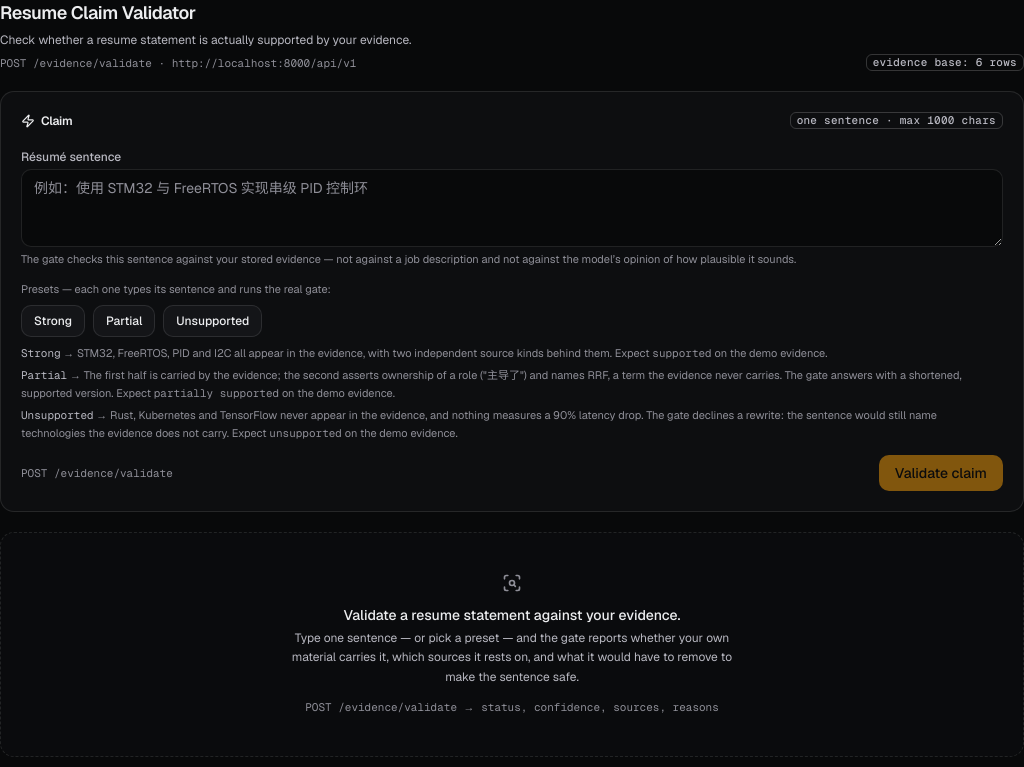
Test: the claim validator page › says why there is no rewrite instead of showing an empty panel
Type "使用 STM32 与 FreeRTOS 实现串级 PID 控制环" into the text box labelled "Résumé sentence".
click(512, 208); type("使用 STM32 与 FreeRTOS 实现串级 PID 控制环")  # box [21, 169, 1003, 247]
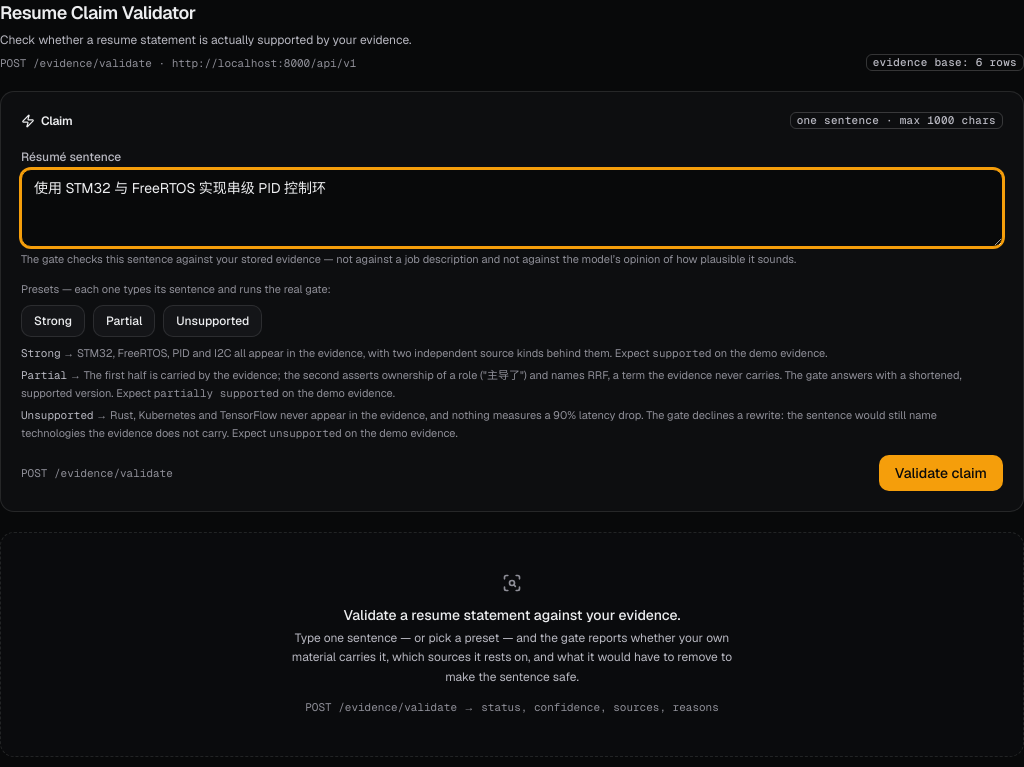
Click the button with test id "validate-claim".
click(941, 473)  # box [879, 455, 1003, 491]
(page scrolled)
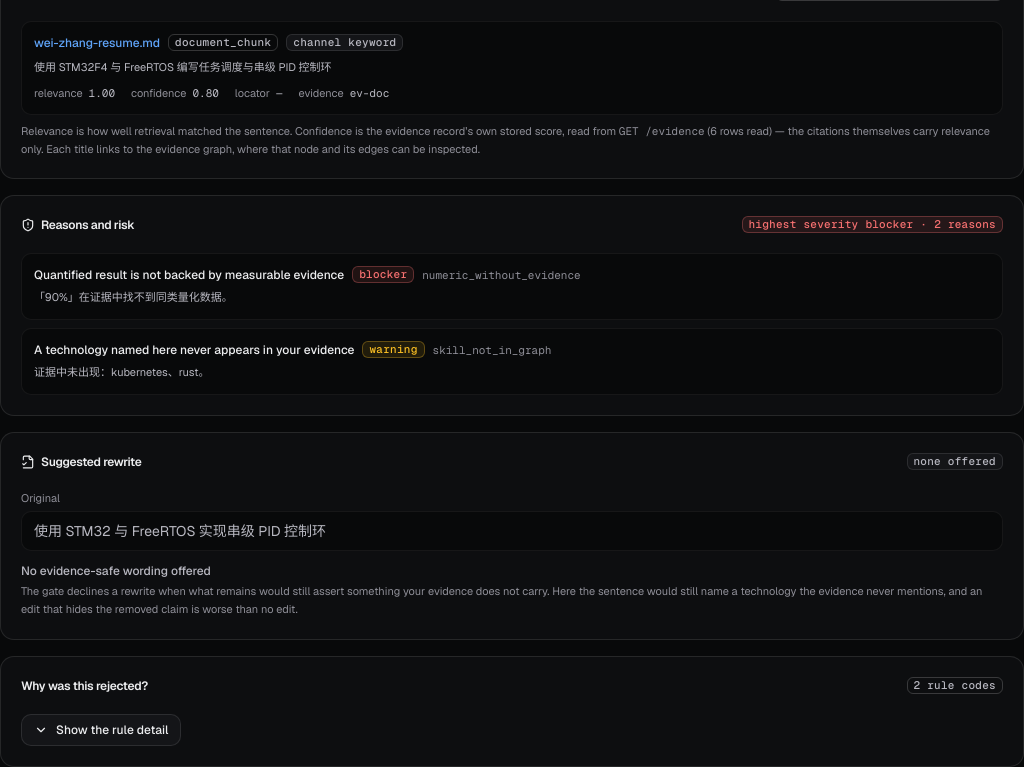
Result: the text "No evidence-safe wording offered" is shown at [21, 563, 211, 579]
Result: the text "still name a technology the evidence never mentions" is shown at [21, 584, 982, 616]
